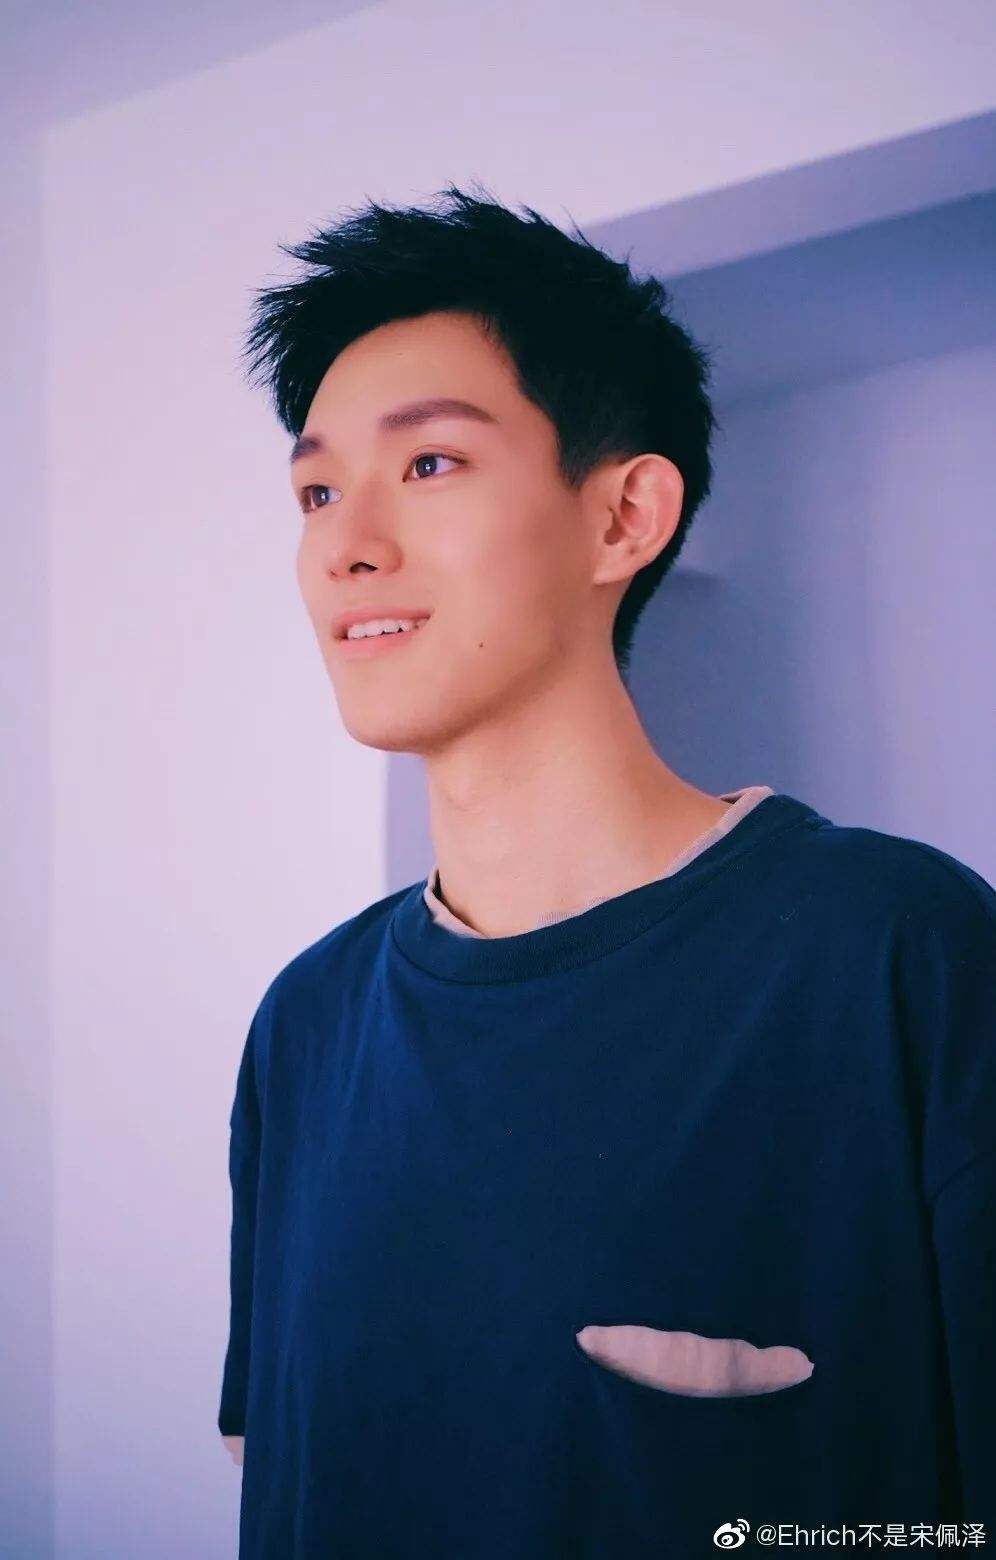person: (198, 157, 896, 1560)
